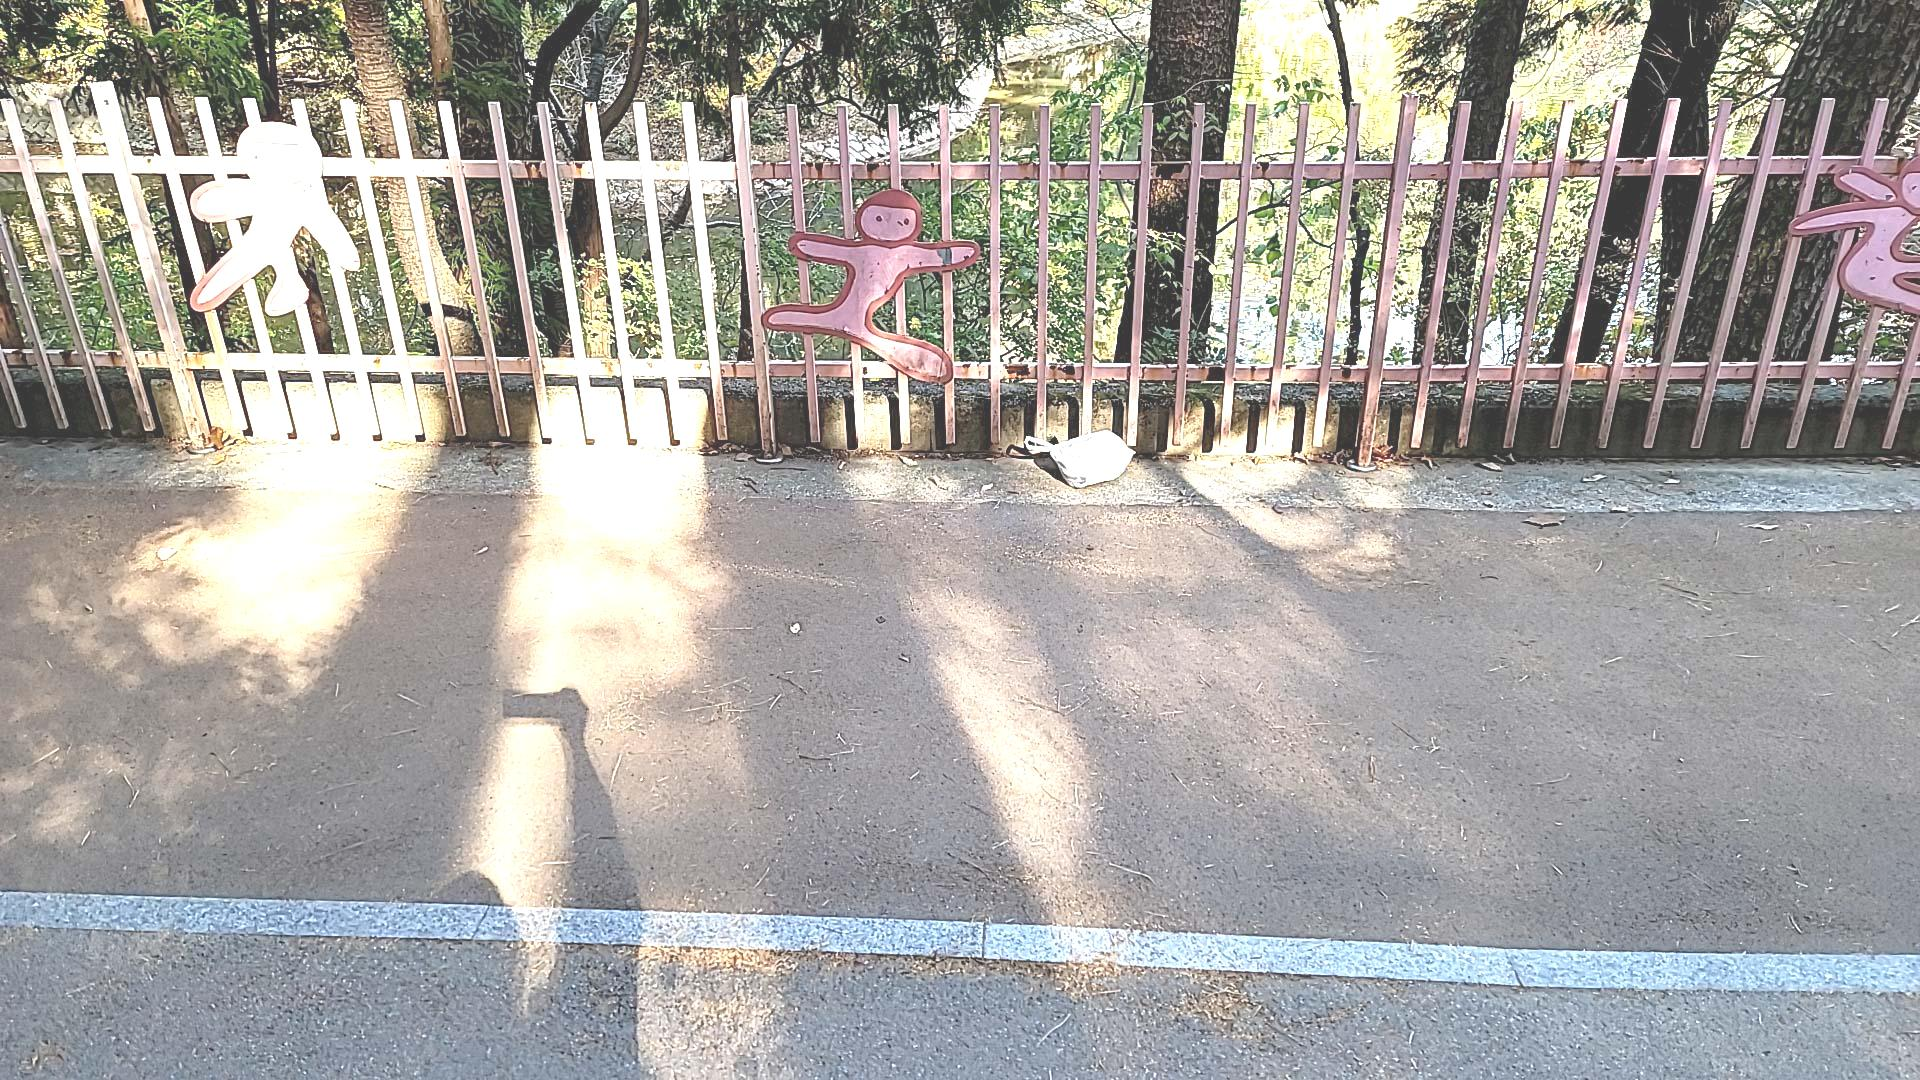white_bag: (1011, 415, 1149, 498)
